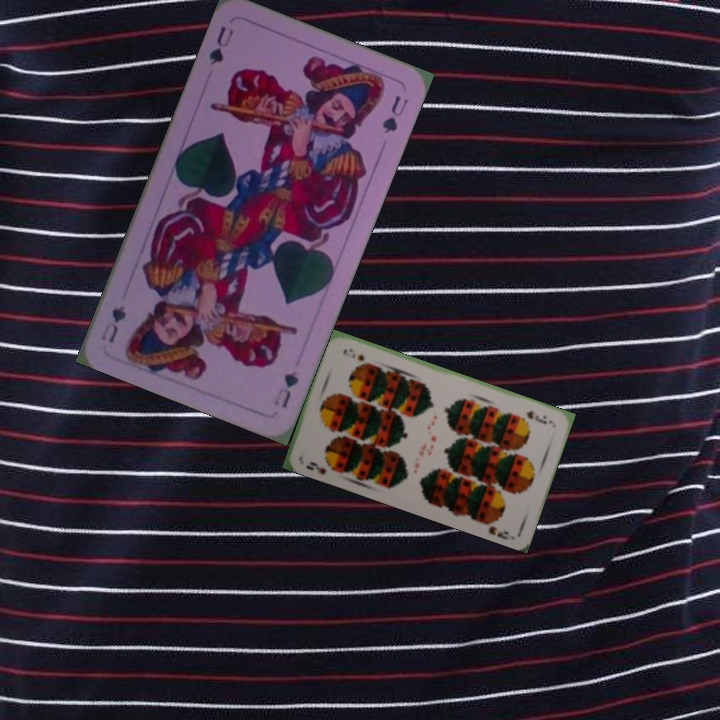GU: (204, 22, 236, 68), (269, 367, 301, 411)
S9: (302, 457, 339, 477), (523, 406, 556, 427)
